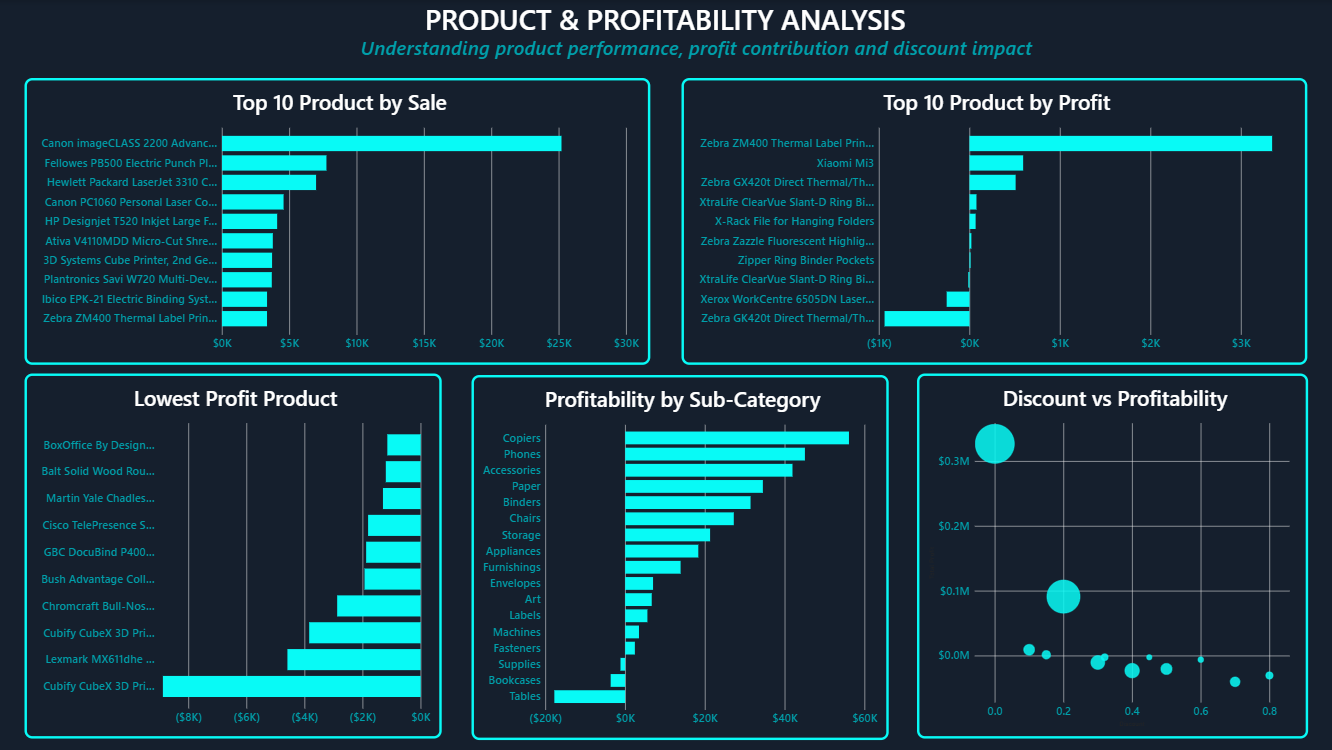

This screenshot's page, from the dashboard's own definition file:
{"tool":"powerbi","page":{"name":"Product Analysis","canvas":[2560,1440],"ordinal":1},"visuals":[{"type":"textbox","box":[747.7,0,1059.1,75],"z":0},{"type":"textbox","box":[693.3,66.7,1336.7,70],"z":1000},{"type":"clusteredBarChart","title":"Top 10 Product by Sale","fields":{"Category":["retail_sales_analytics superstore_clean.Product Name"],"Y":["retail_sales_analytics superstore_clean.Total Profit"]},"box":[50,150,1200,550],"z":2000},{"type":"clusteredBarChart","title":"Top 10 Product by Profit","fields":{"Category":["retail_sales_analytics superstore_clean.Product Name"],"Y":["retail_sales_analytics superstore_clean.Total Profit"]},"box":[1310,150,1200,550],"z":3000},{"type":"clusteredBarChart","title":"Lowest Profit Product ","fields":{"Category":["retail_sales_analytics superstore_clean.Product Name"],"Y":["retail_sales_analytics superstore_clean.Total Profit"]},"box":[50,717.5,800,700],"z":4000},{"type":"clusteredBarChart","title":"Profitability by Sub-Category","fields":{"Category":["retail_sales_analytics superstore_clean.Sub-Category"],"Y":["retail_sales_analytics superstore_clean.Total Profit"]},"box":[905,720,800,700],"z":5000},{"type":"scatterChart","title":"Discount vs Profitability","fields":{"Size":["retail_sales_analytics superstore_clean.Total Sales"],"X":["retail_sales_analytics superstore_clean.Discount"],"Y":["retail_sales_analytics superstore_clean.Total Profit"]},"box":[1760,717.5,750,700],"z":6000}]}

Visuals, with their boxes in screenshot pixels (x1, y1, x2, y2), scaled from the page's 2560x1440 canvas onto the 1332x750 screenshot:
textbox: detection(389, 0, 940, 39)
textbox: detection(361, 35, 1056, 71)
"Top 10 Product by Sale" clusteredBarChart: detection(26, 78, 650, 365)
"Top 10 Product by Profit" clusteredBarChart: detection(682, 78, 1306, 365)
"Lowest Profit Product " clusteredBarChart: detection(26, 374, 442, 738)
"Profitability by Sub-Category" clusteredBarChart: detection(471, 375, 887, 740)
"Discount vs Profitability" scatterChart: detection(916, 374, 1306, 738)
